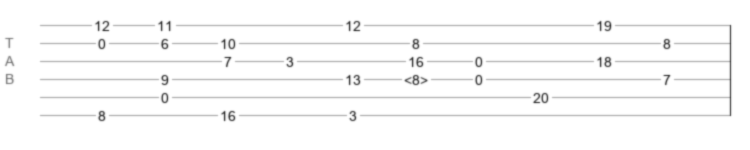0: (98, 36, 106, 46), (161, 90, 169, 100), (475, 54, 483, 64), (475, 72, 483, 82)
10: (220, 36, 236, 46)
11: (157, 18, 173, 28)
12: (94, 18, 110, 28), (345, 18, 361, 28)
13: (345, 72, 361, 82)
16: (220, 108, 236, 118), (408, 54, 424, 64)
18: (596, 54, 612, 64)
19: (596, 18, 612, 28)
20: (533, 90, 549, 100)
3: (286, 54, 294, 64), (349, 108, 357, 118)
6: (161, 36, 169, 46)
7: (224, 54, 232, 64), (663, 72, 671, 82)
8: (98, 108, 106, 118), (412, 36, 420, 46), (663, 36, 671, 46)
9: (161, 72, 169, 82)
harmonic: (404, 72, 428, 82)
